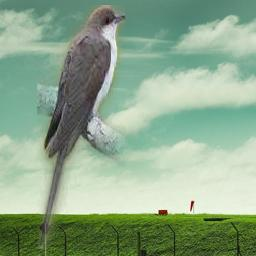Cuckoo: (37, 5, 125, 249)
